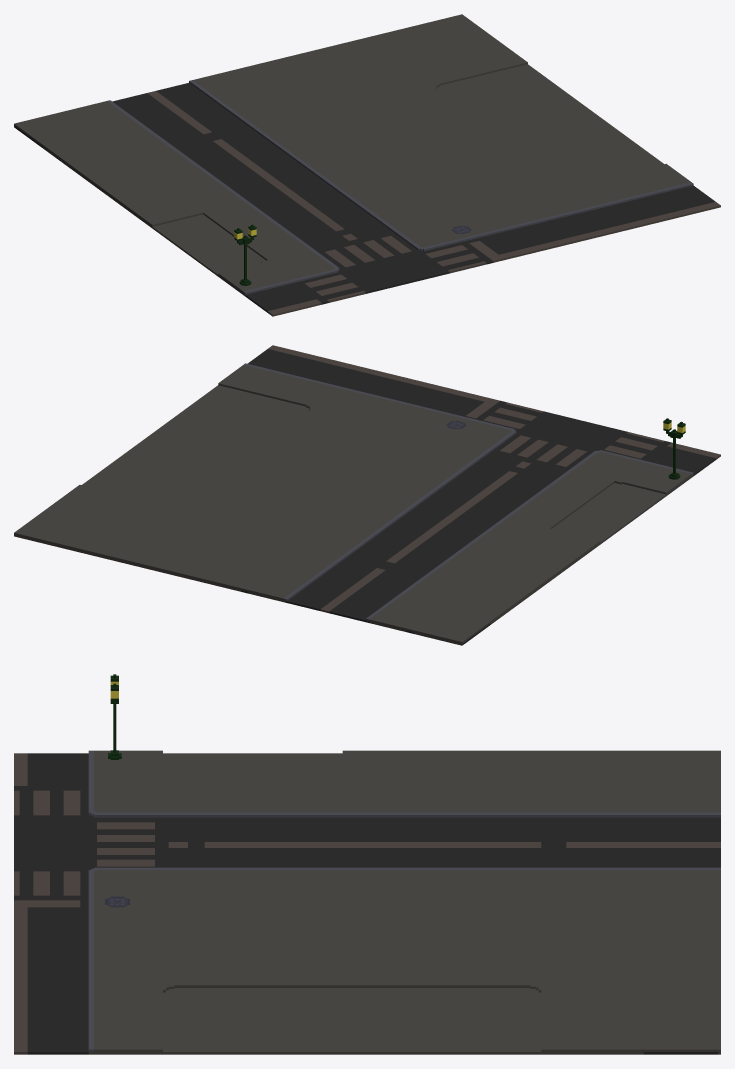
Rendered from Street2.obj.
3 views of the same model, one above another, from view 1: azimuth 30°, elevation 25°; view 2: azimuth 150°, elevation 25°; view 3: azimuth 270°, elevation 25° (orthographic). The views are drawn at different scales.
Bounding box in the file's own units: 25.6 × 3.3 × 25.6.
1 material, 1 textured.
